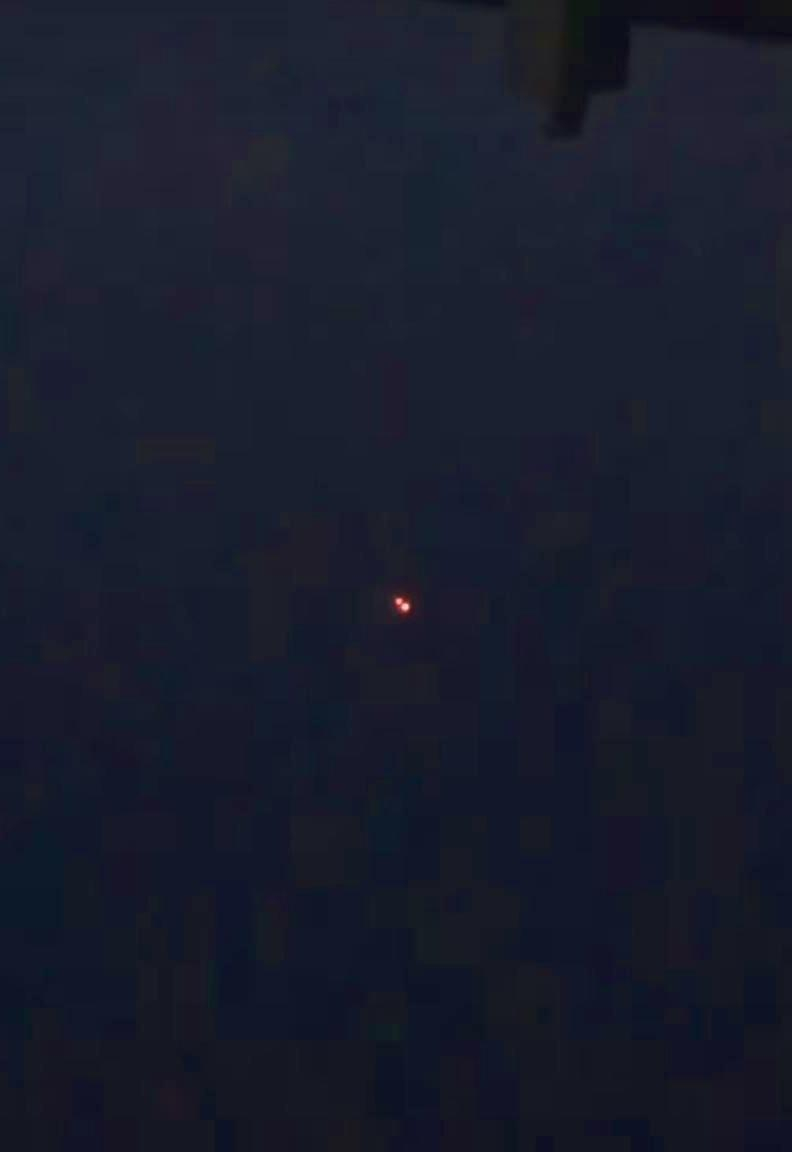Plane: (367, 577, 439, 634)
